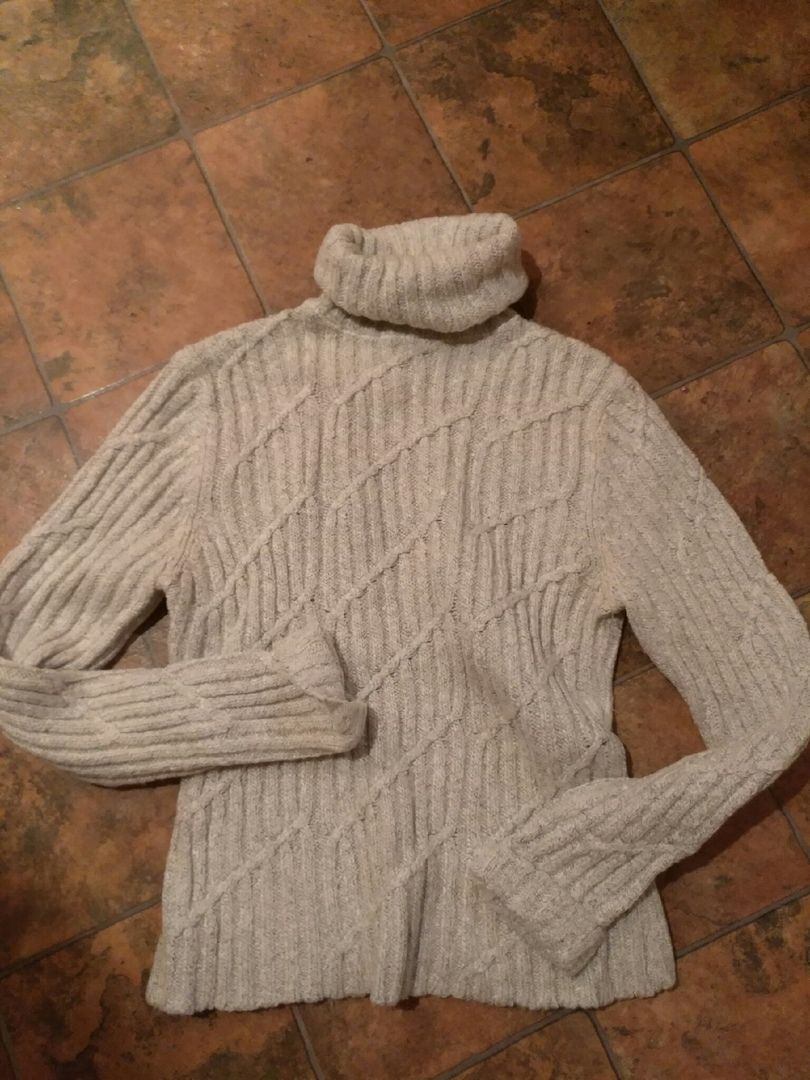clothes: (17, 203, 794, 1021)
